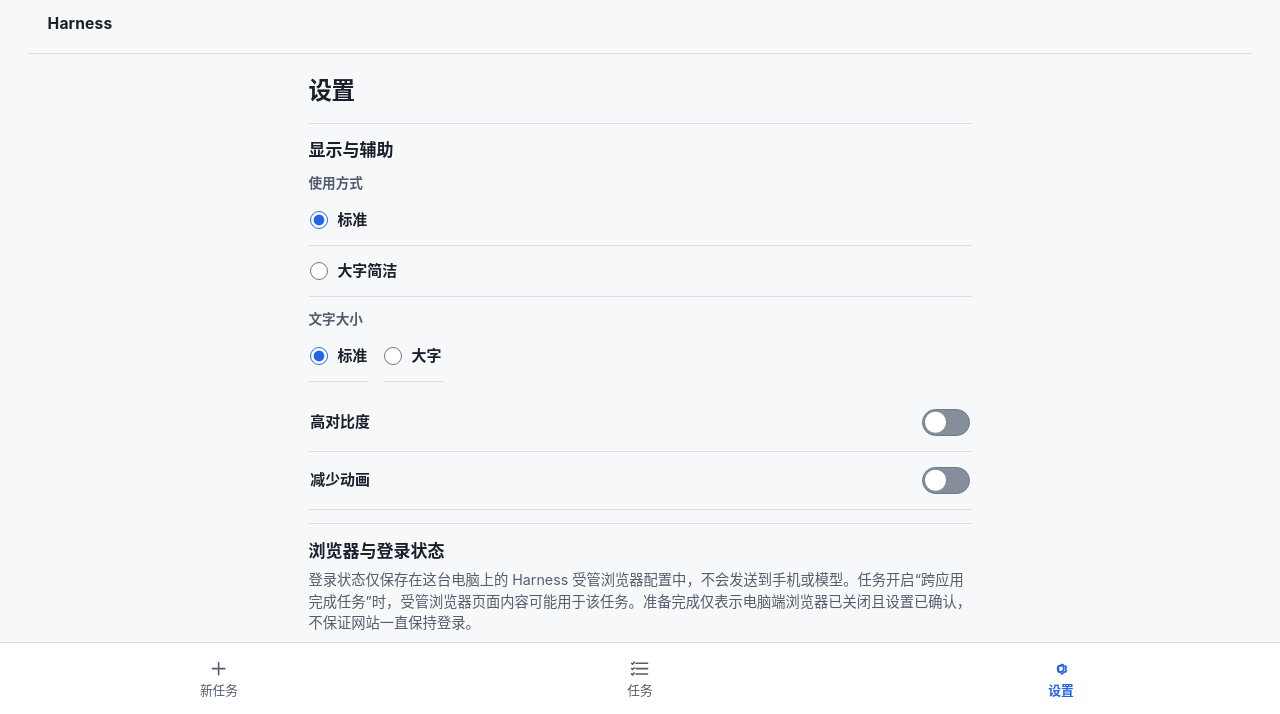
Test: personal preferences screen › restores all known preferences to defaults
The width and height of the screenshot is (1280, 714).
Click the radio button labelled "大字简洁" at (319, 271), box [310, 262, 328, 280]
(page scrolled)
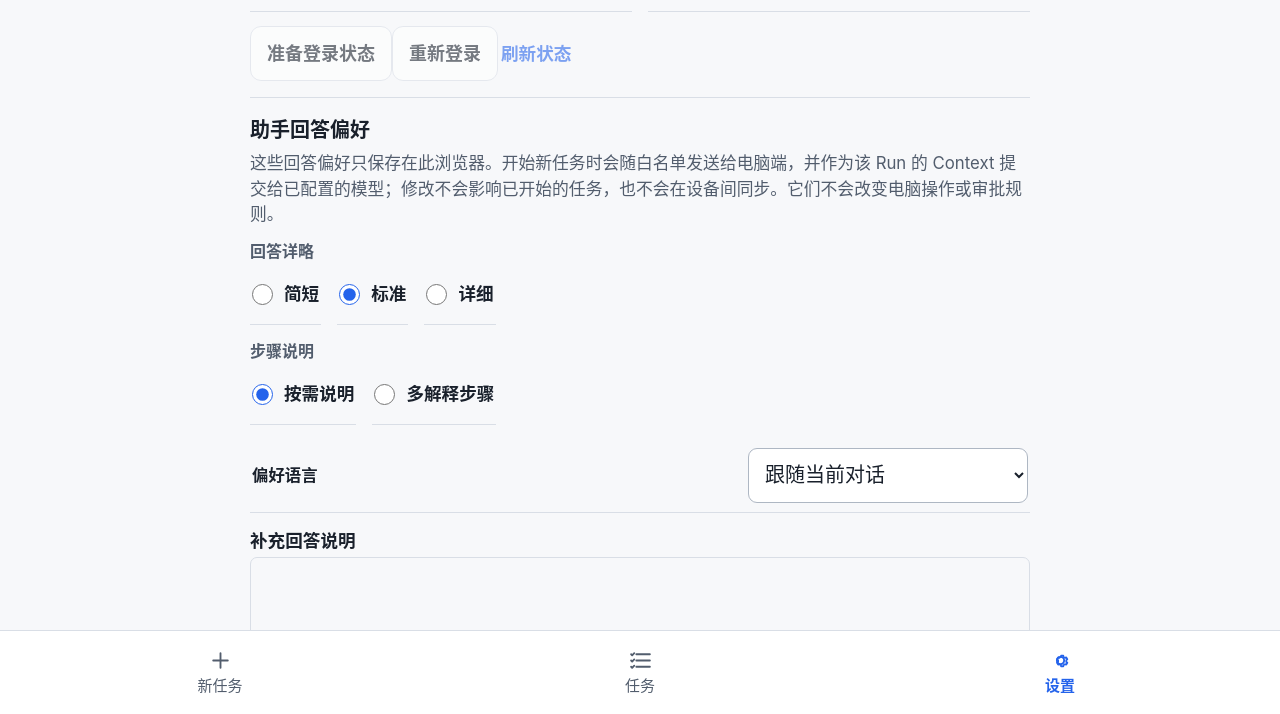
Click the radio button labelled "详细" at (437, 294), box [426, 284, 447, 305]
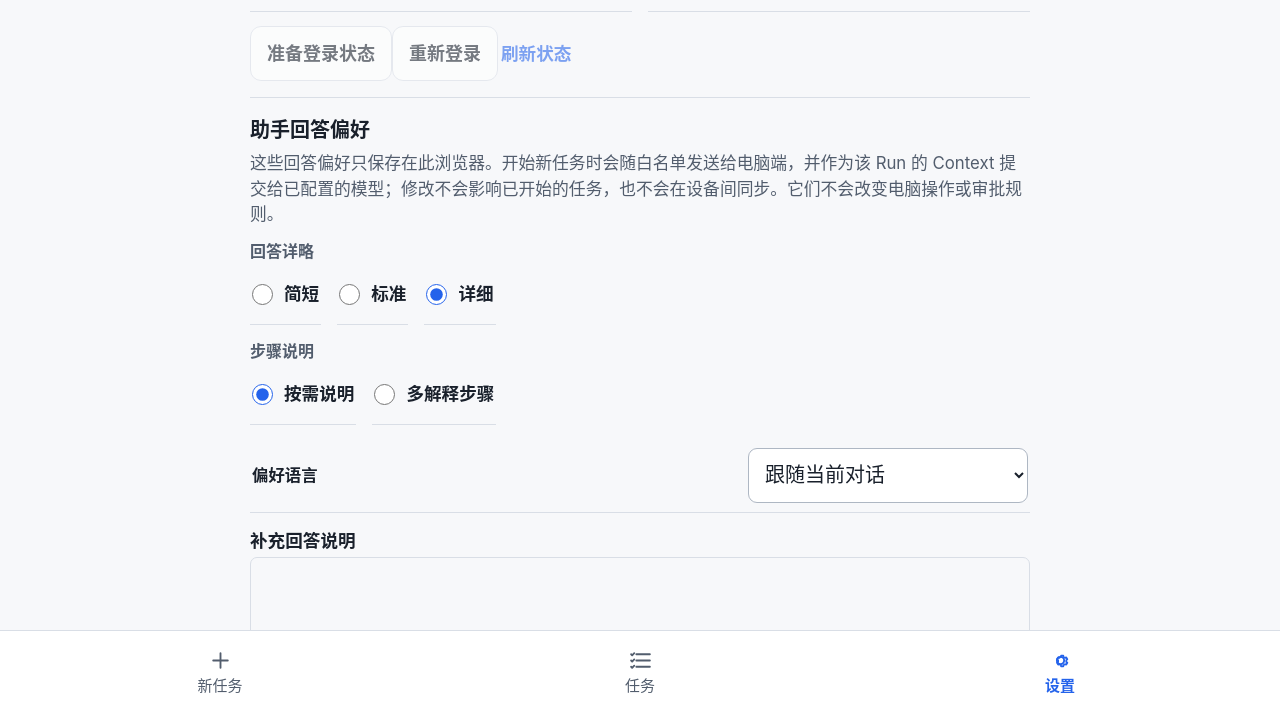
Type "Use numbered steps." into the text box labelled "补充回答说明" at (640, 610), box [250, 557, 1030, 662]
(page scrolled)
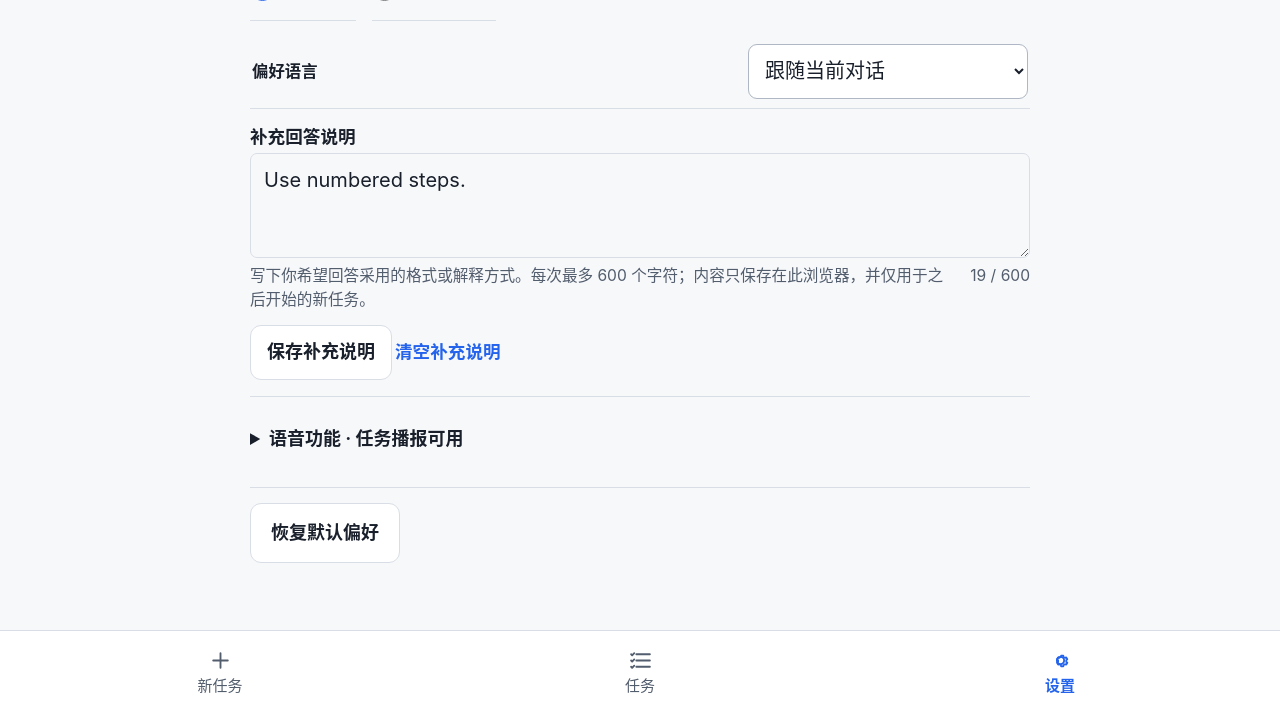
Click the button "恢复默认偏好" at (325, 533), box [250, 503, 400, 563]
(page scrolled)
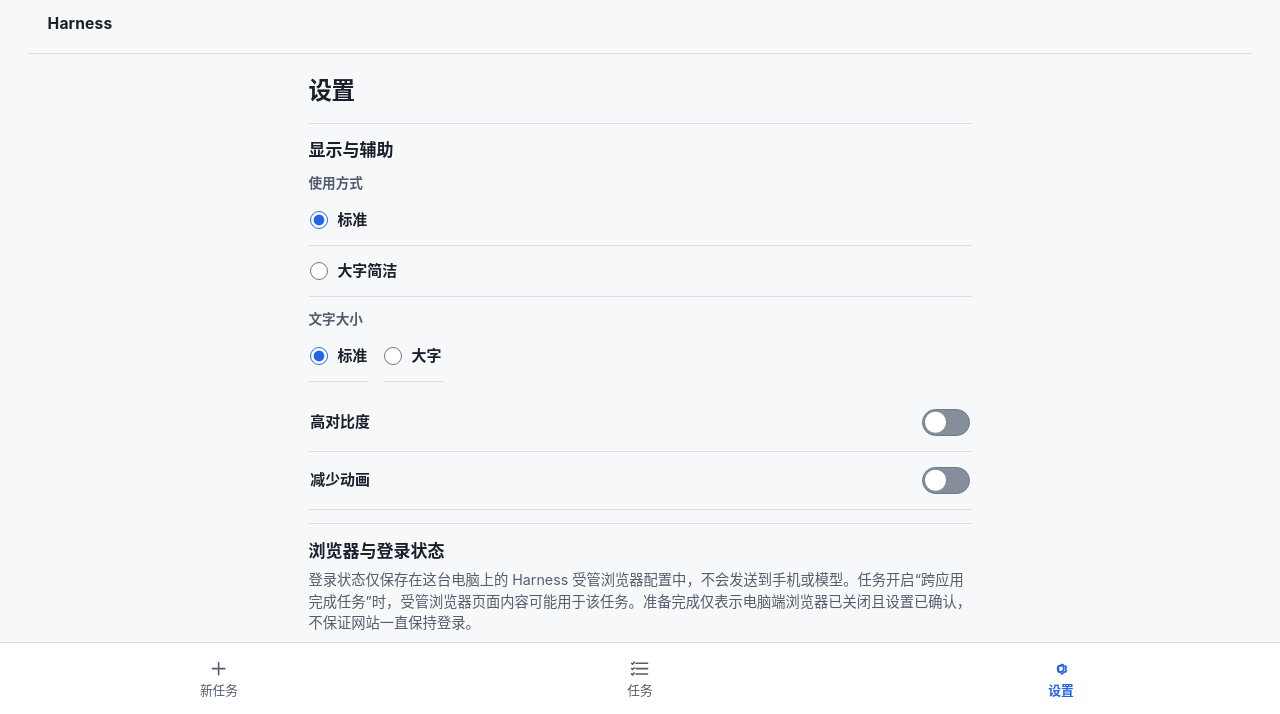
expect the radio button labelled "大字简洁" is not checked: met, box [310, 262, 328, 280]
expect the radio button labelled "标准" below "使用方式" is checked: met, box [310, 211, 328, 229]
